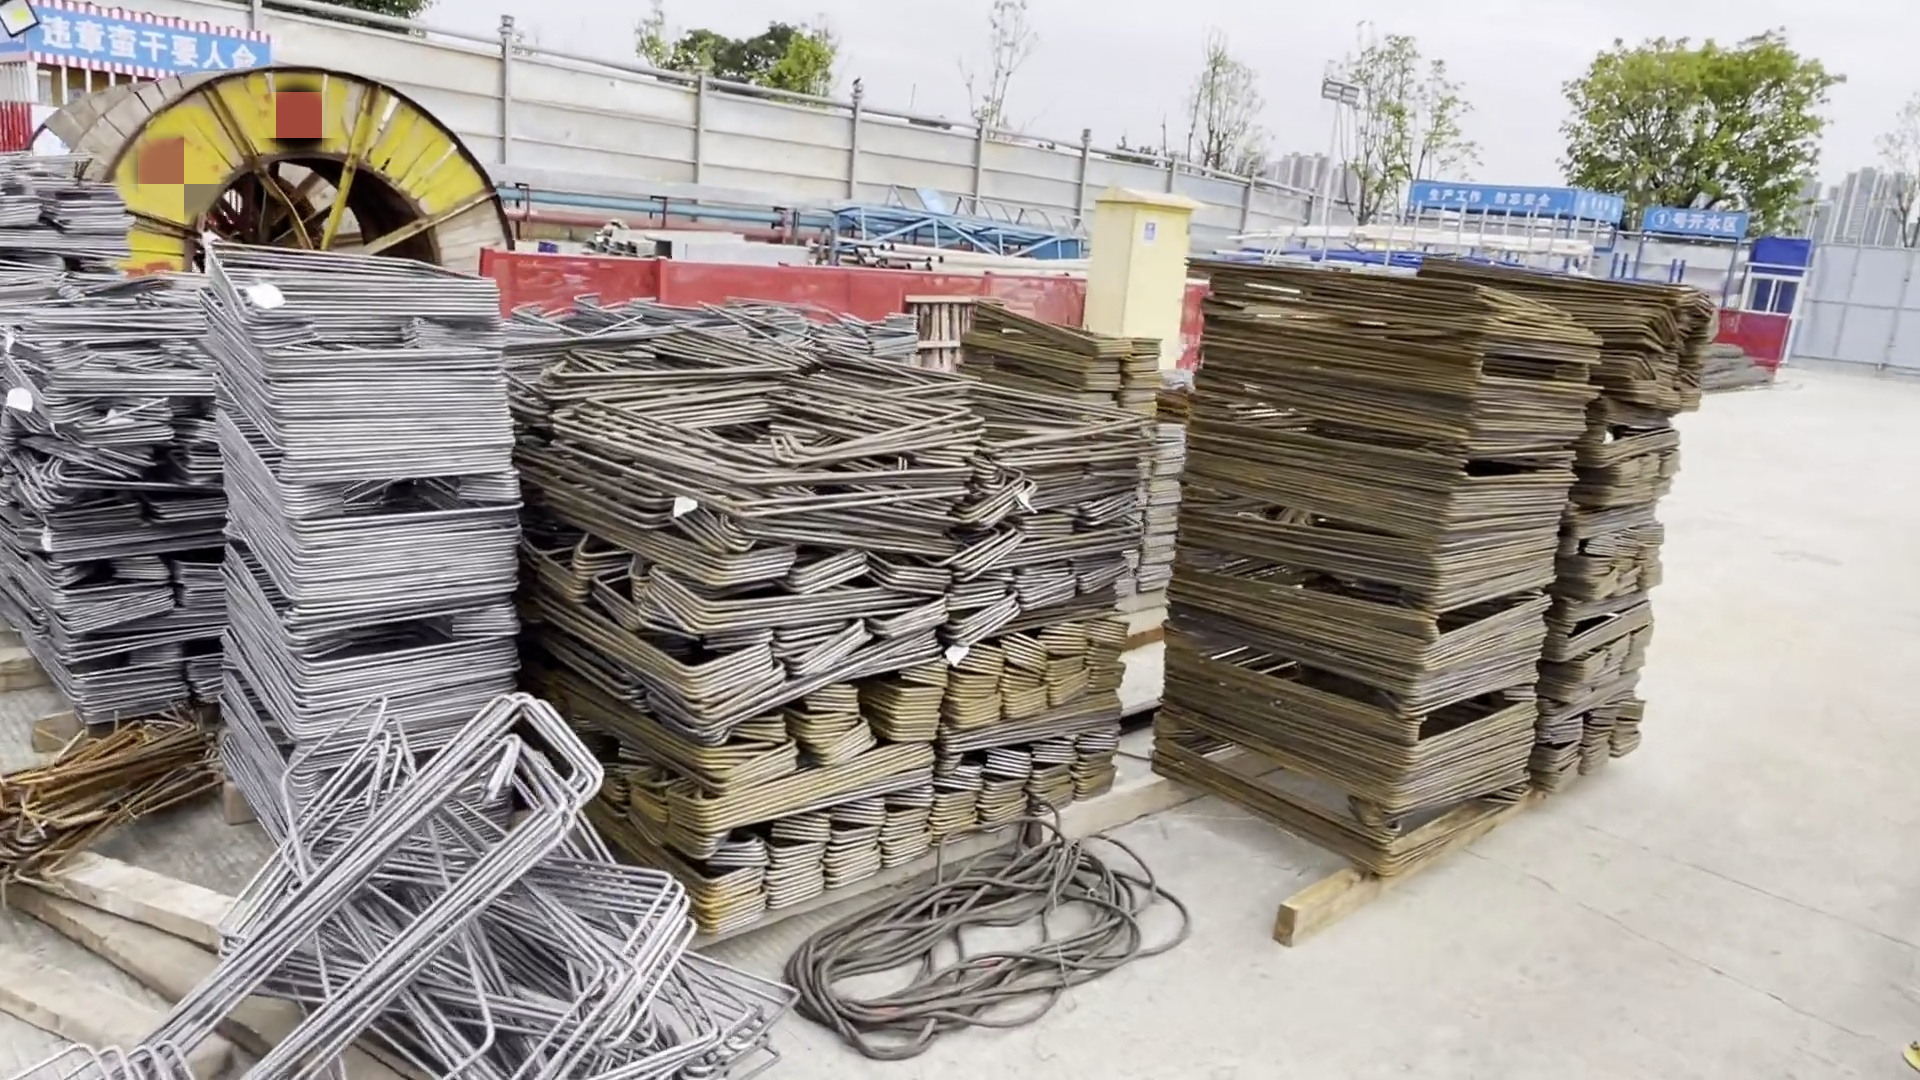ebox: (1091, 187, 1184, 372)
fence: (480, 257, 1087, 328), (1712, 305, 1782, 369)
rebar: (1704, 347, 1758, 393)
slogan: (16, 7, 270, 73), (1418, 179, 1590, 219)
